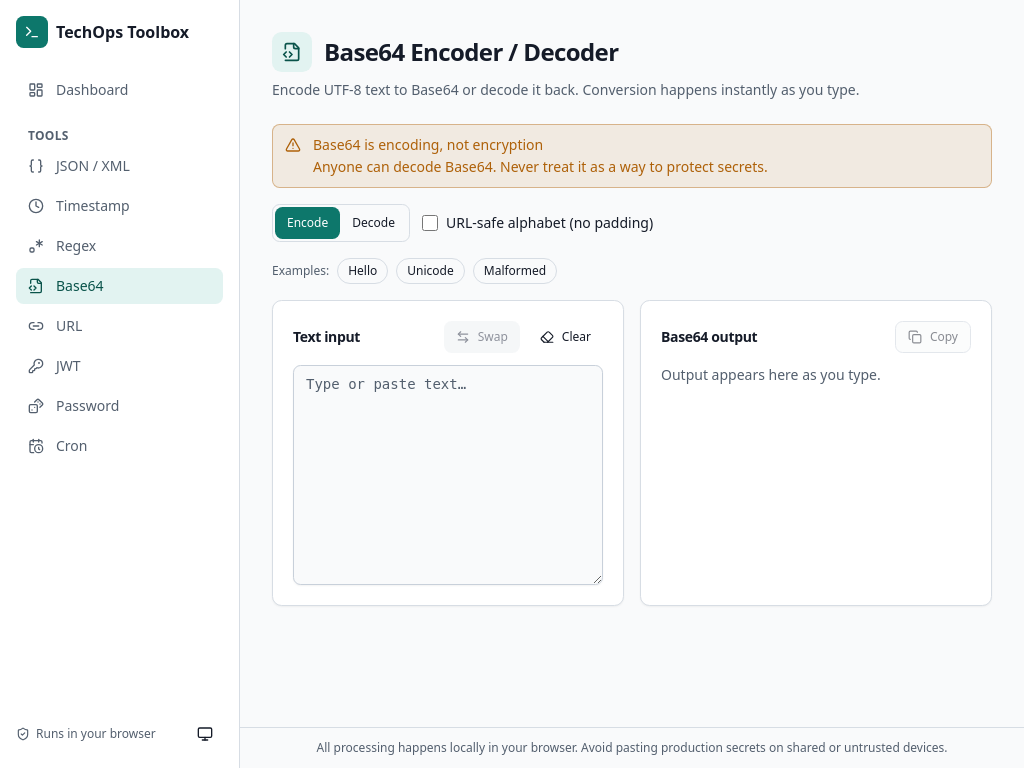
Test case: Base64 page › shows an error for malformed Base64 and clears
Click the button "Decode" at x=374, y=223, box [340,207,407,239]
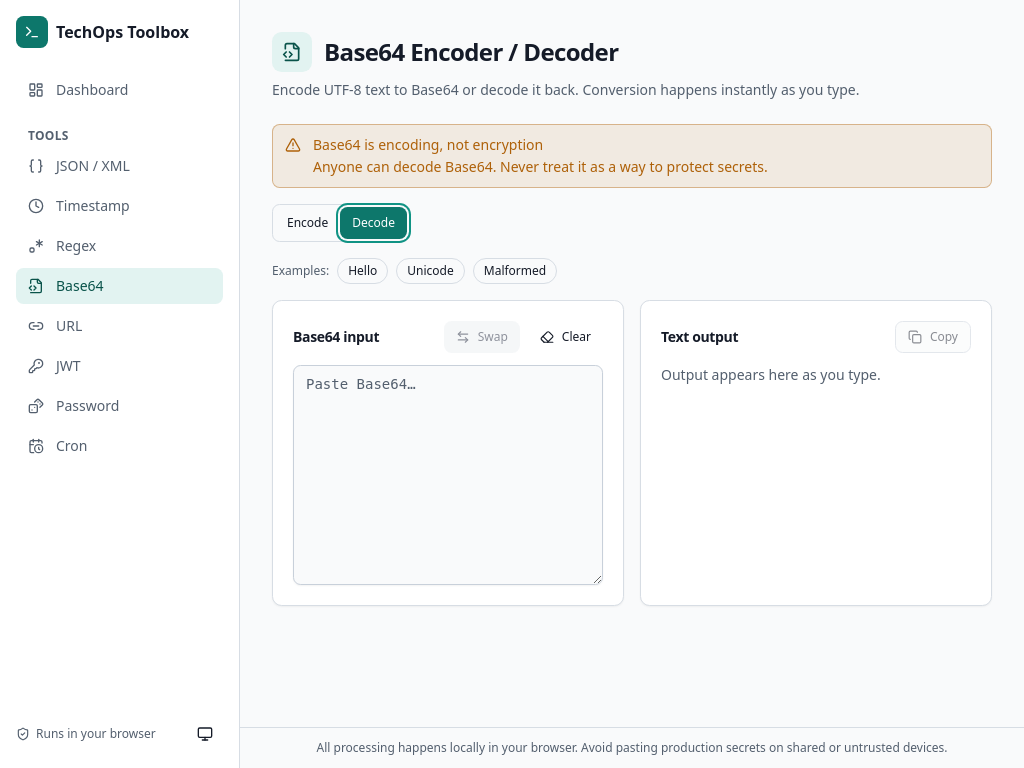
Type "abc$" into the text box named "Input" at x=448, y=475, box [293,365,603,585]
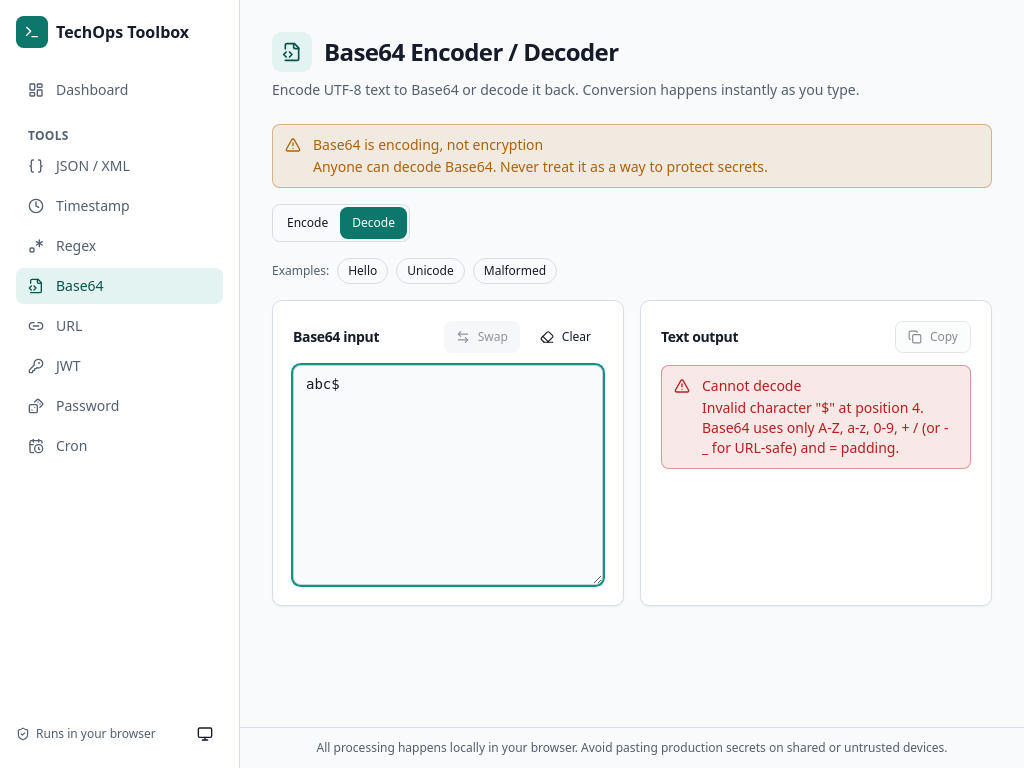
Result: the message that starts with "Cannot decode" shows "Invalid character" at [702,398,948,457]
Click the button "Clear" at x=565, y=337, box [528,321,603,353]
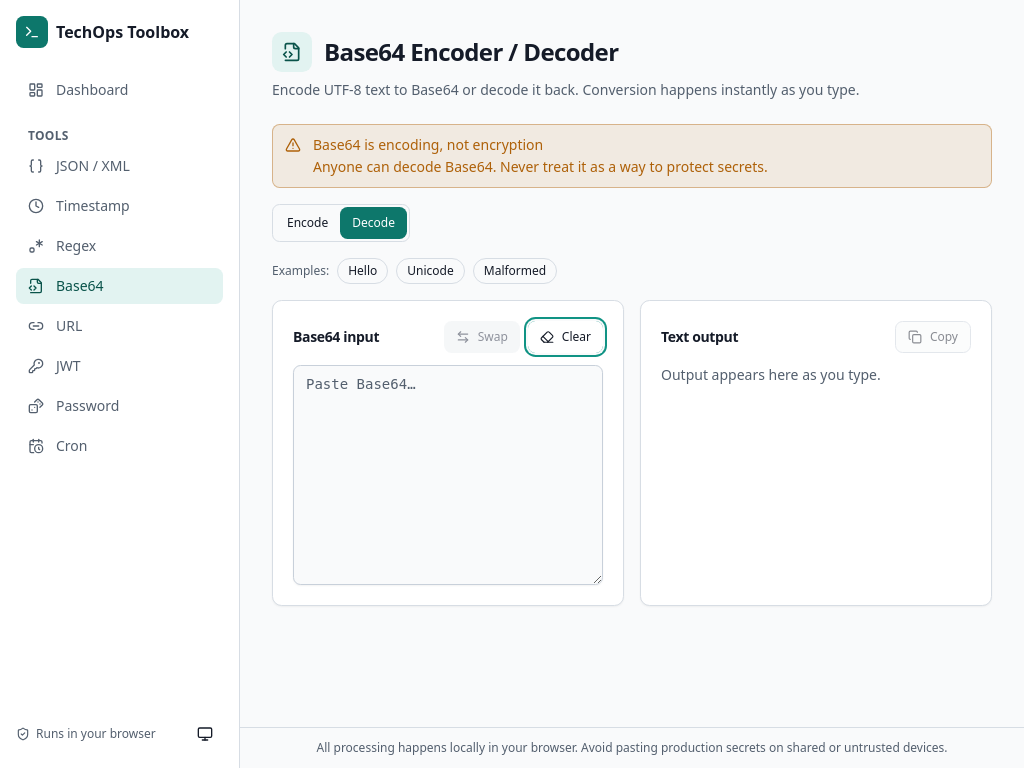
Result: the text box named "Input" is empty at [293,365,603,585]
